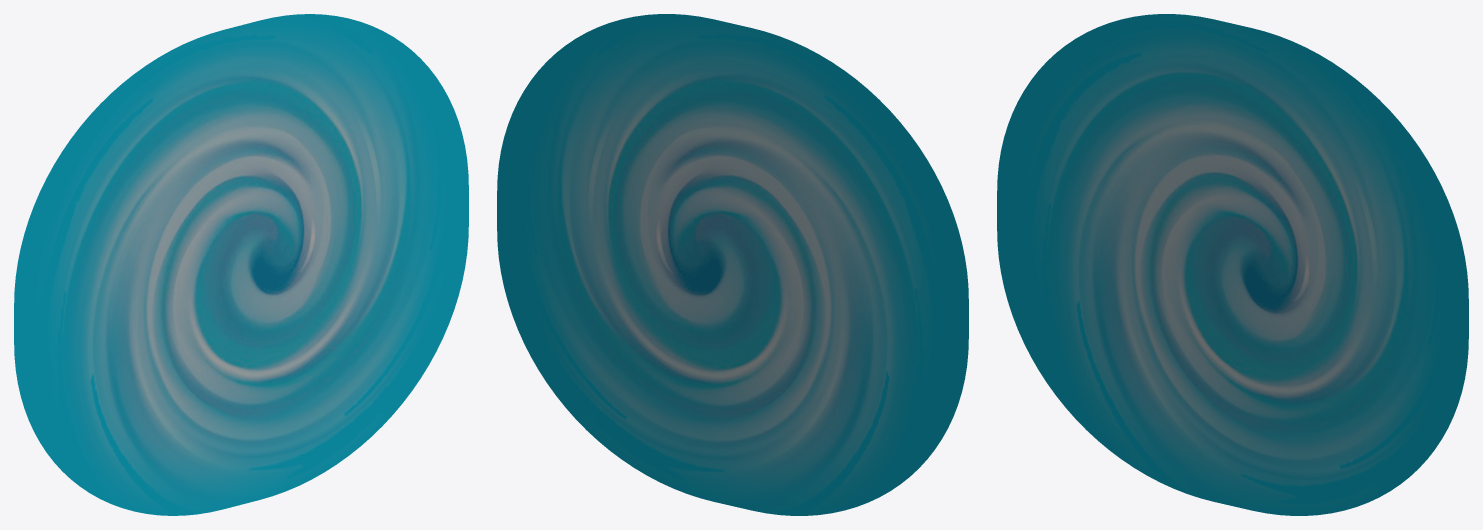
File: vortex1.obj
The picture shows the model from 3 angles, left to right: view 1: azimuth 30°, elevation 25°; view 2: azimuth 150°, elevation 25°; view 3: azimuth 330°, elevation 25°; orthographic projection.
Parts seen in each view (by area): view 1: Plane; view 2: Plane; view 3: Plane.
Part boxes in pixels (x1,y1,x2,y2): Plane: [14, 14, 468, 515]; Plane: [497, 14, 968, 515]; Plane: [997, 14, 1468, 515].
Bounding box in the file's own units: 4.59 × 4.55 × 0.1204.
Materials: 1 (1 with a texture image).
